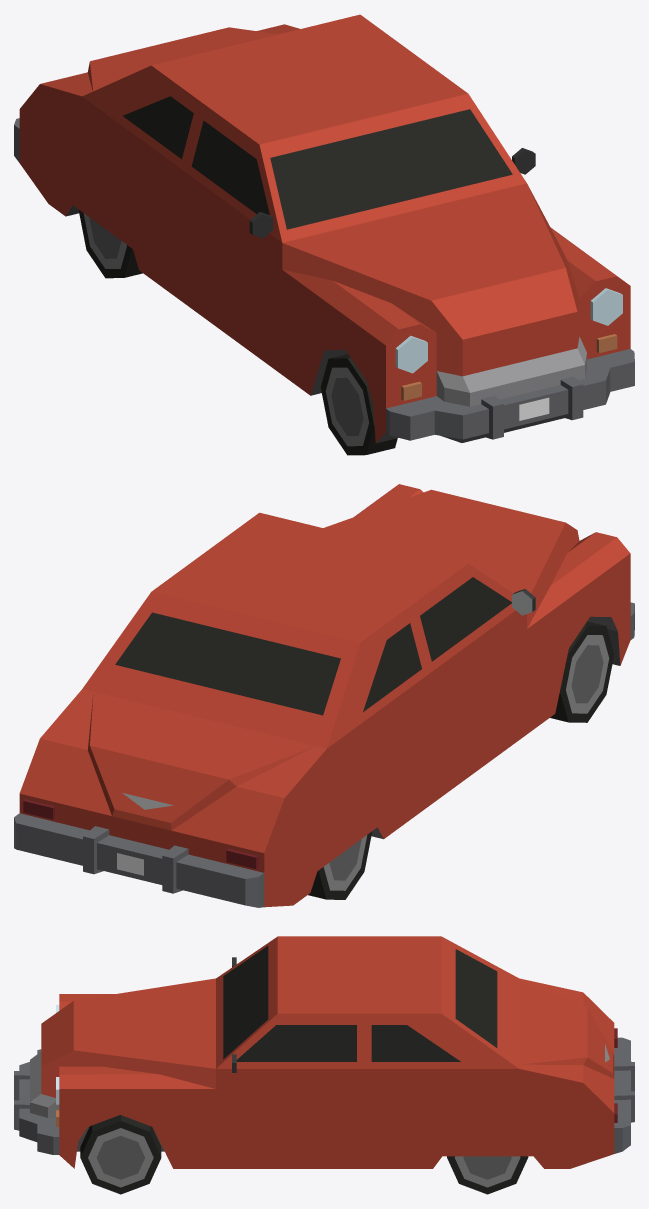
The model's file is Veh_Retro_Car_01_Red.glb.
3 renders of one model, top to bottom at view 1: azimuth 30°, elevation 25°; view 2: azimuth 150°, elevation 25°; view 3: azimuth 270°, elevation 25°, orthographic. The views are drawn at different scales.
Parts seen in each view (by area): view 1: Retro_Car_01_Red, Wheel_FR, Wheel_RR; view 2: Retro_Car_01_Red, Wheel_FR, Wheel_RR; view 3: Retro_Car_01_Red, Wheel_FL, Wheel_RL.
Boxes of the visible parts, x1=… form: Retro_Car_01_Red: x1=14, y1=14, x2=634, y2=443; Wheel_FR: x1=320, y1=354, x2=397, y2=455; Wheel_RR: x1=78, y1=210, x2=142, y2=278; Retro_Car_01_Red: x1=14, y1=484, x2=634, y2=907; Wheel_FR: x1=550, y1=621, x2=614, y2=722; Wheel_RR: x1=308, y1=831, x2=372, y2=899; Retro_Car_01_Red: x1=14, y1=936, x2=634, y2=1168; Wheel_FL: x1=80, y1=1115, x2=161, y2=1194; Wheel_RL: x1=447, y1=1156, x2=528, y2=1194.
Bounding box in the file's own units: 1.1 × 0.863 × 2.77.
Materials: 1 (1 with a texture image).
